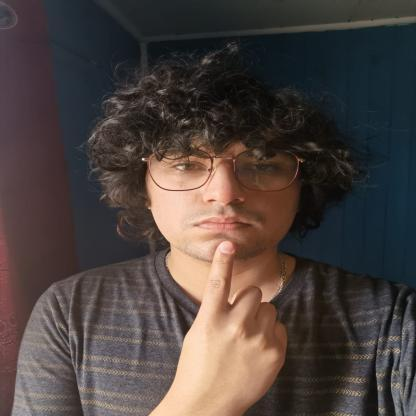T: (180, 240, 290, 412)
